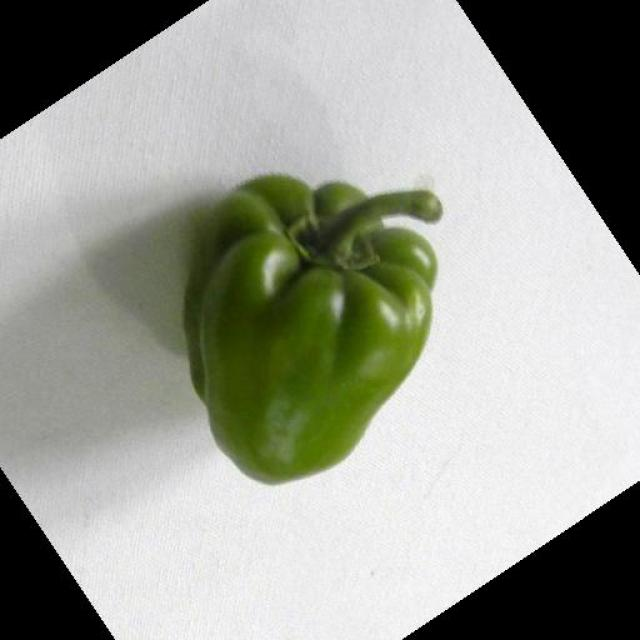Fresh_Capsicum: (195, 143, 465, 500)
